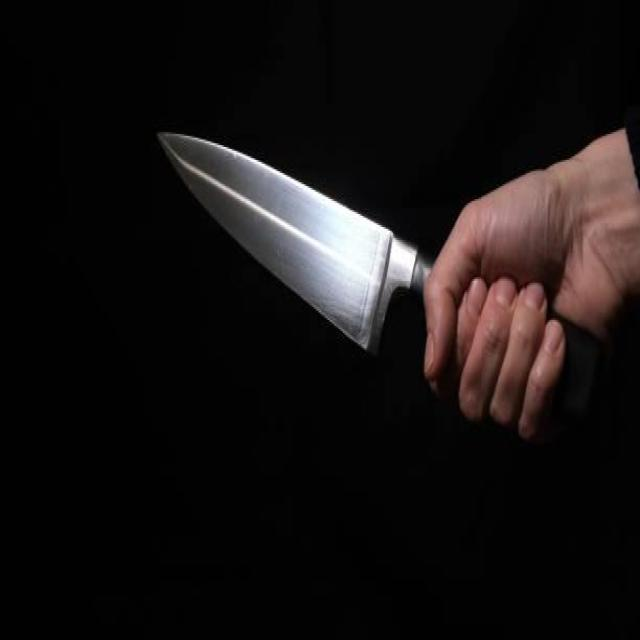faca: (150, 84, 602, 462)
